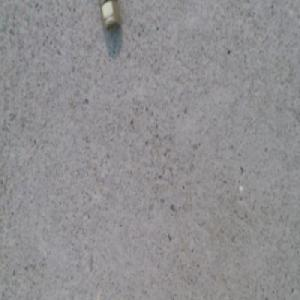BoltNutSet: (106, 0, 126, 37)
